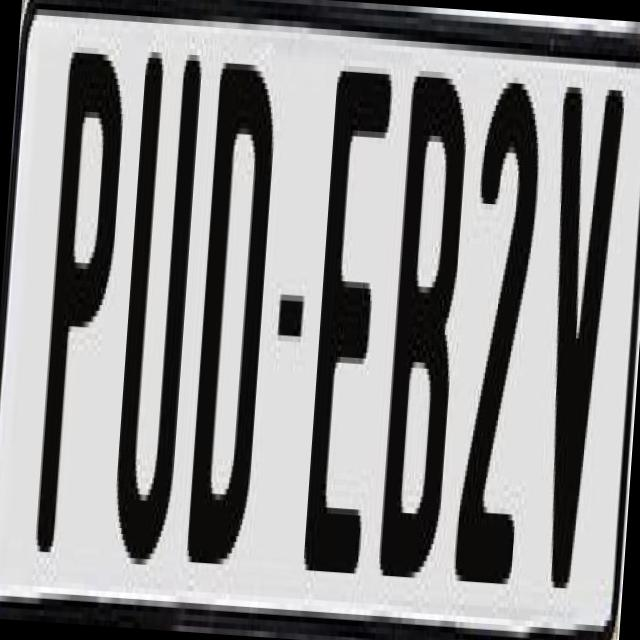2: (446, 80, 542, 596)
B: (374, 64, 476, 603)
D: (181, 56, 276, 594)
E: (299, 53, 396, 574)
P: (30, 46, 134, 567)
U: (104, 34, 200, 584)
V: (526, 74, 630, 614)
